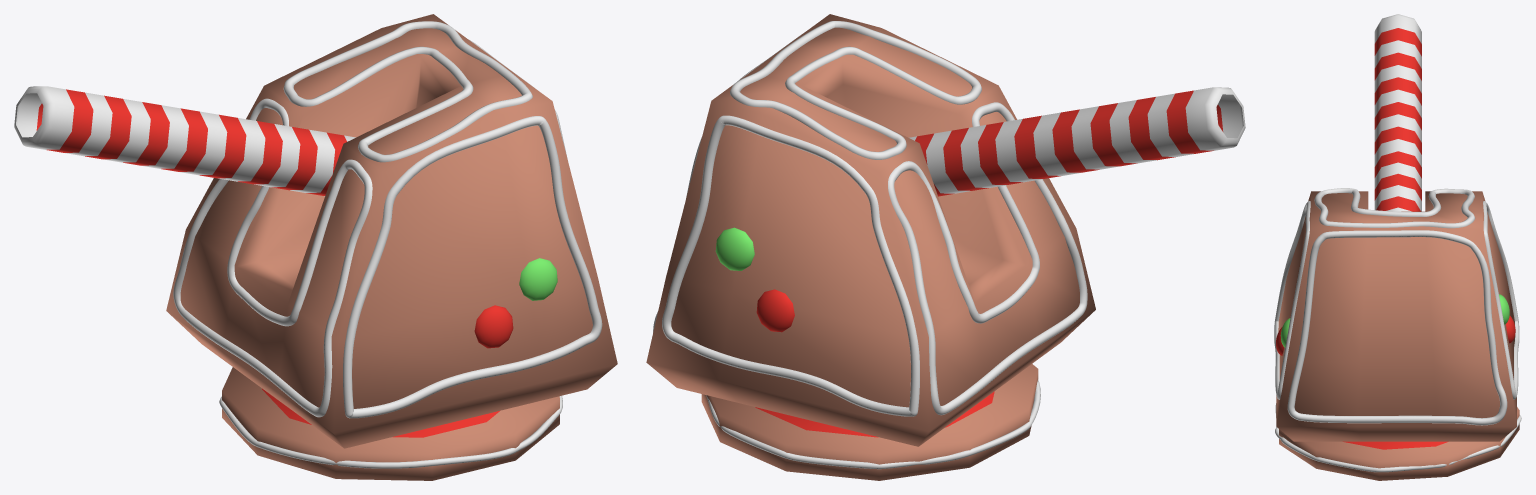
File: Cannon_Animated.glb
The picture shows the model from 3 angles, left to right: view 1: azimuth 30°, elevation 25°; view 2: azimuth 150°, elevation 25°; view 3: azimuth 270°, elevation 25°; orthographic projection. The views are drawn at different scales.
Parts seen in each view (by area): view 1: Cube.011, Simple_GP_Layer.038, Cube.012, Circle.013, Simple_GP_Layer.040; view 2: Cube.011, Simple_GP_Layer.038, Cube.012, Circle.013, Simple_GP_Layer.040; view 3: Cube.011, Simple_GP_Layer.038, Cube.012, Circle.013, Simple_GP_Layer.040.
Part boxes in pixels (x1=…): Cube.011: x1=166, y1=14, x2=617, y2=448; Simple_GP_Layer.038: x1=173, y1=21, x2=602, y2=418; Cube.012: x1=14, y1=86, x2=355, y2=196; Circle.013: x1=222, y1=367, x2=559, y2=480; Simple_GP_Layer.040: x1=219, y1=395, x2=562, y2=468; Cube.011: x1=646, y1=14, x2=1095, y2=446; Simple_GP_Layer.038: x1=653, y1=21, x2=1087, y2=416; Cube.012: x1=909, y1=87, x2=1245, y2=196; Circle.013: x1=701, y1=364, x2=1038, y2=480; Simple_GP_Layer.040: x1=706, y1=380, x2=1040, y2=469; Cube.011: x1=1276, y1=191, x2=1516, y2=441; Simple_GP_Layer.038: x1=1274, y1=188, x2=1519, y2=425; Cube.012: x1=1374, y1=14, x2=1421, y2=211; Circle.013: x1=1279, y1=407, x2=1519, y2=480; Simple_GP_Layer.040: x1=1275, y1=403, x2=1521, y2=472.
Bounding box in the file's own units: 3.5 × 2.64 × 2.01.
